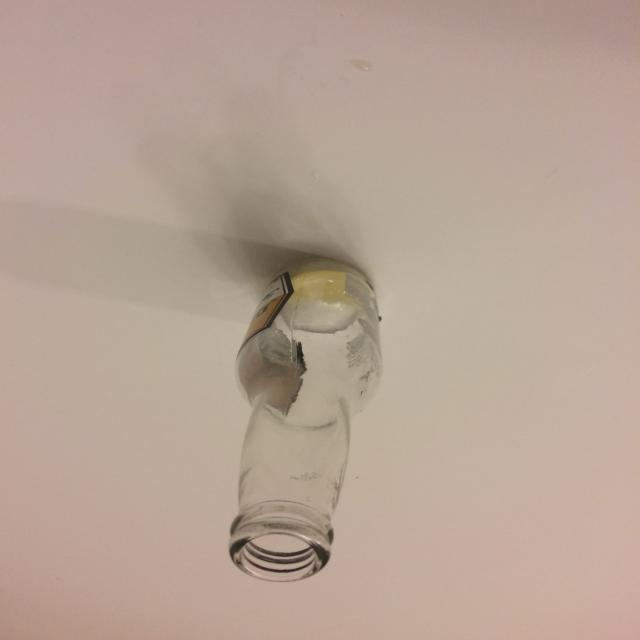glass: (227, 256, 384, 582)
